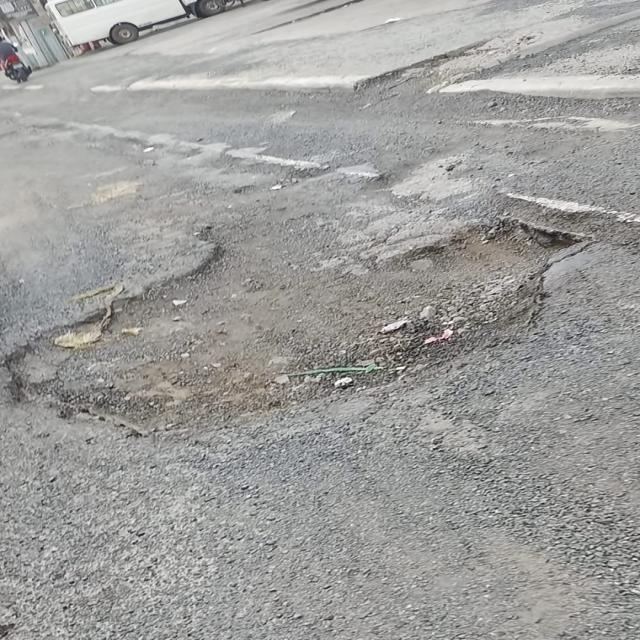pothole: (49, 183, 559, 448)
